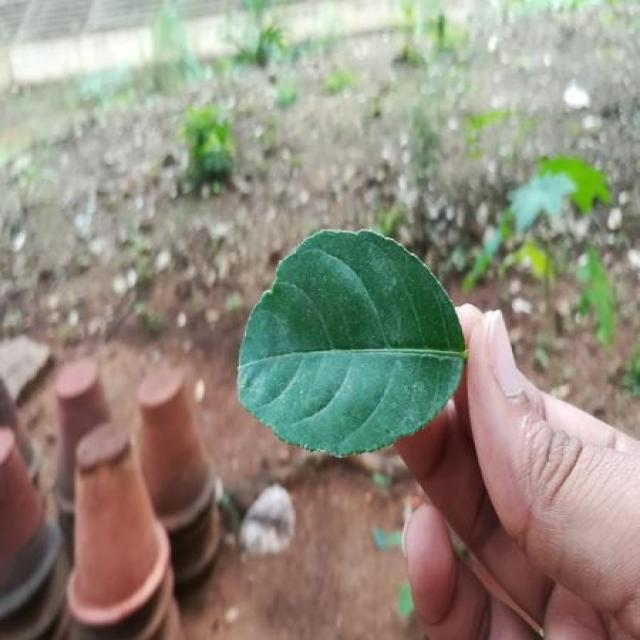badipala: (238, 230, 463, 448)
